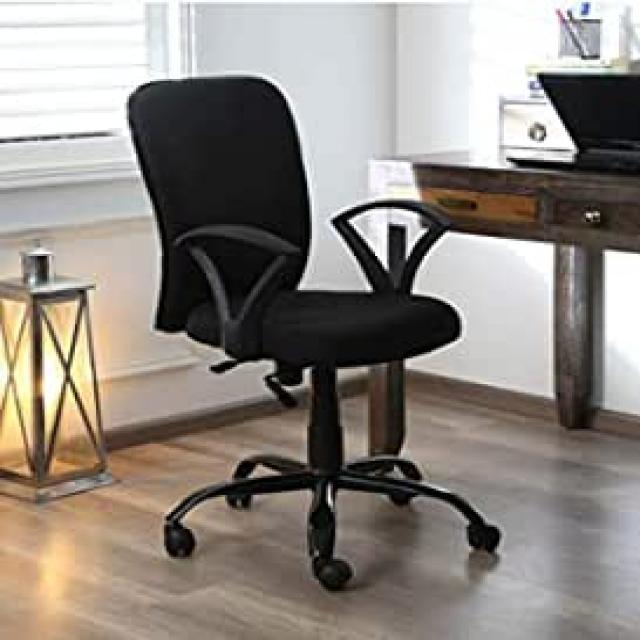chair: (109, 57, 518, 595)
